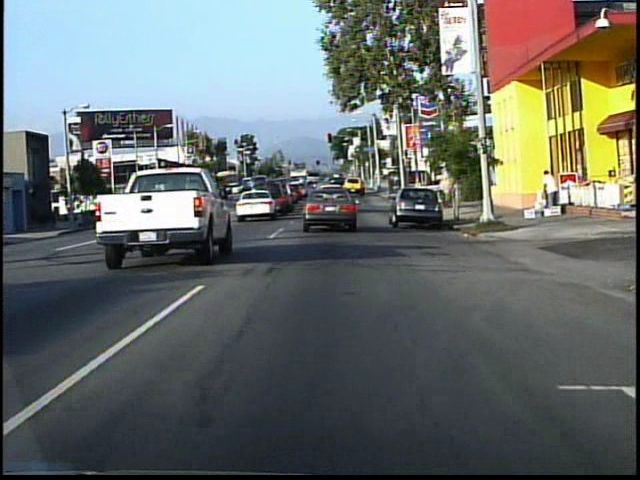person: (537, 165, 560, 209)
